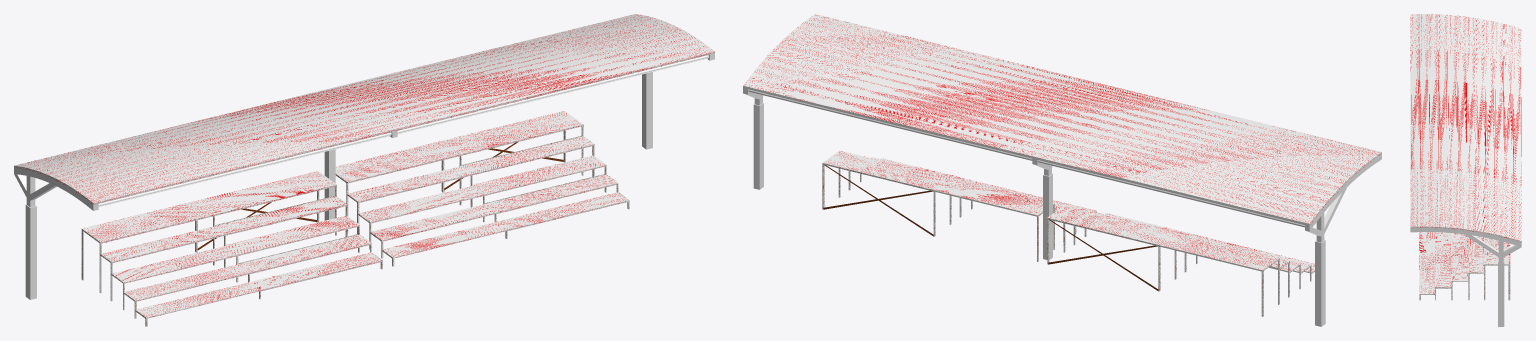
3 views of the same model, side by side, from view 1: azimuth 30°, elevation 25°; view 2: azimuth 150°, elevation 25°; view 3: azimuth 270°, elevation 25° (orthographic). The views are drawn at different scales.
Parts seen in each view (by area): view 1: mesh3_mesh3-geometry, mesh2_mesh2-geometry, mesh1_mesh1-geometry, mesh4_mesh4-geometry; view 2: mesh3_mesh3-geometry, mesh2_mesh2-geometry, mesh1_mesh1-geometry, mesh4_mesh4-geometry; view 3: mesh3_mesh3-geometry, mesh1_mesh1-geometry.
Boxes of the visible parts, box(x1,y1,x2,y2) form: mesh3_mesh3-geometry: box(14, 14, 714, 299); mesh2_mesh2-geometry: box(81, 171, 382, 326); mesh1_mesh1-geometry: box(335, 110, 629, 266); mesh4_mesh4-geometry: box(324, 131, 397, 220); mesh3_mesh3-geometry: box(743, 14, 1381, 326); mesh2_mesh2-geometry: box(1047, 205, 1314, 316); mesh1_mesh1-geometry: box(822, 150, 1096, 261); mesh4_mesh4-geometry: box(1032, 158, 1052, 259); mesh3_mesh3-geometry: box(1410, 14, 1521, 326); mesh1_mesh1-geometry: box(1419, 232, 1510, 300).
Size of the model in its own units: 0.9547 by 0.2101 by 0.2109.
